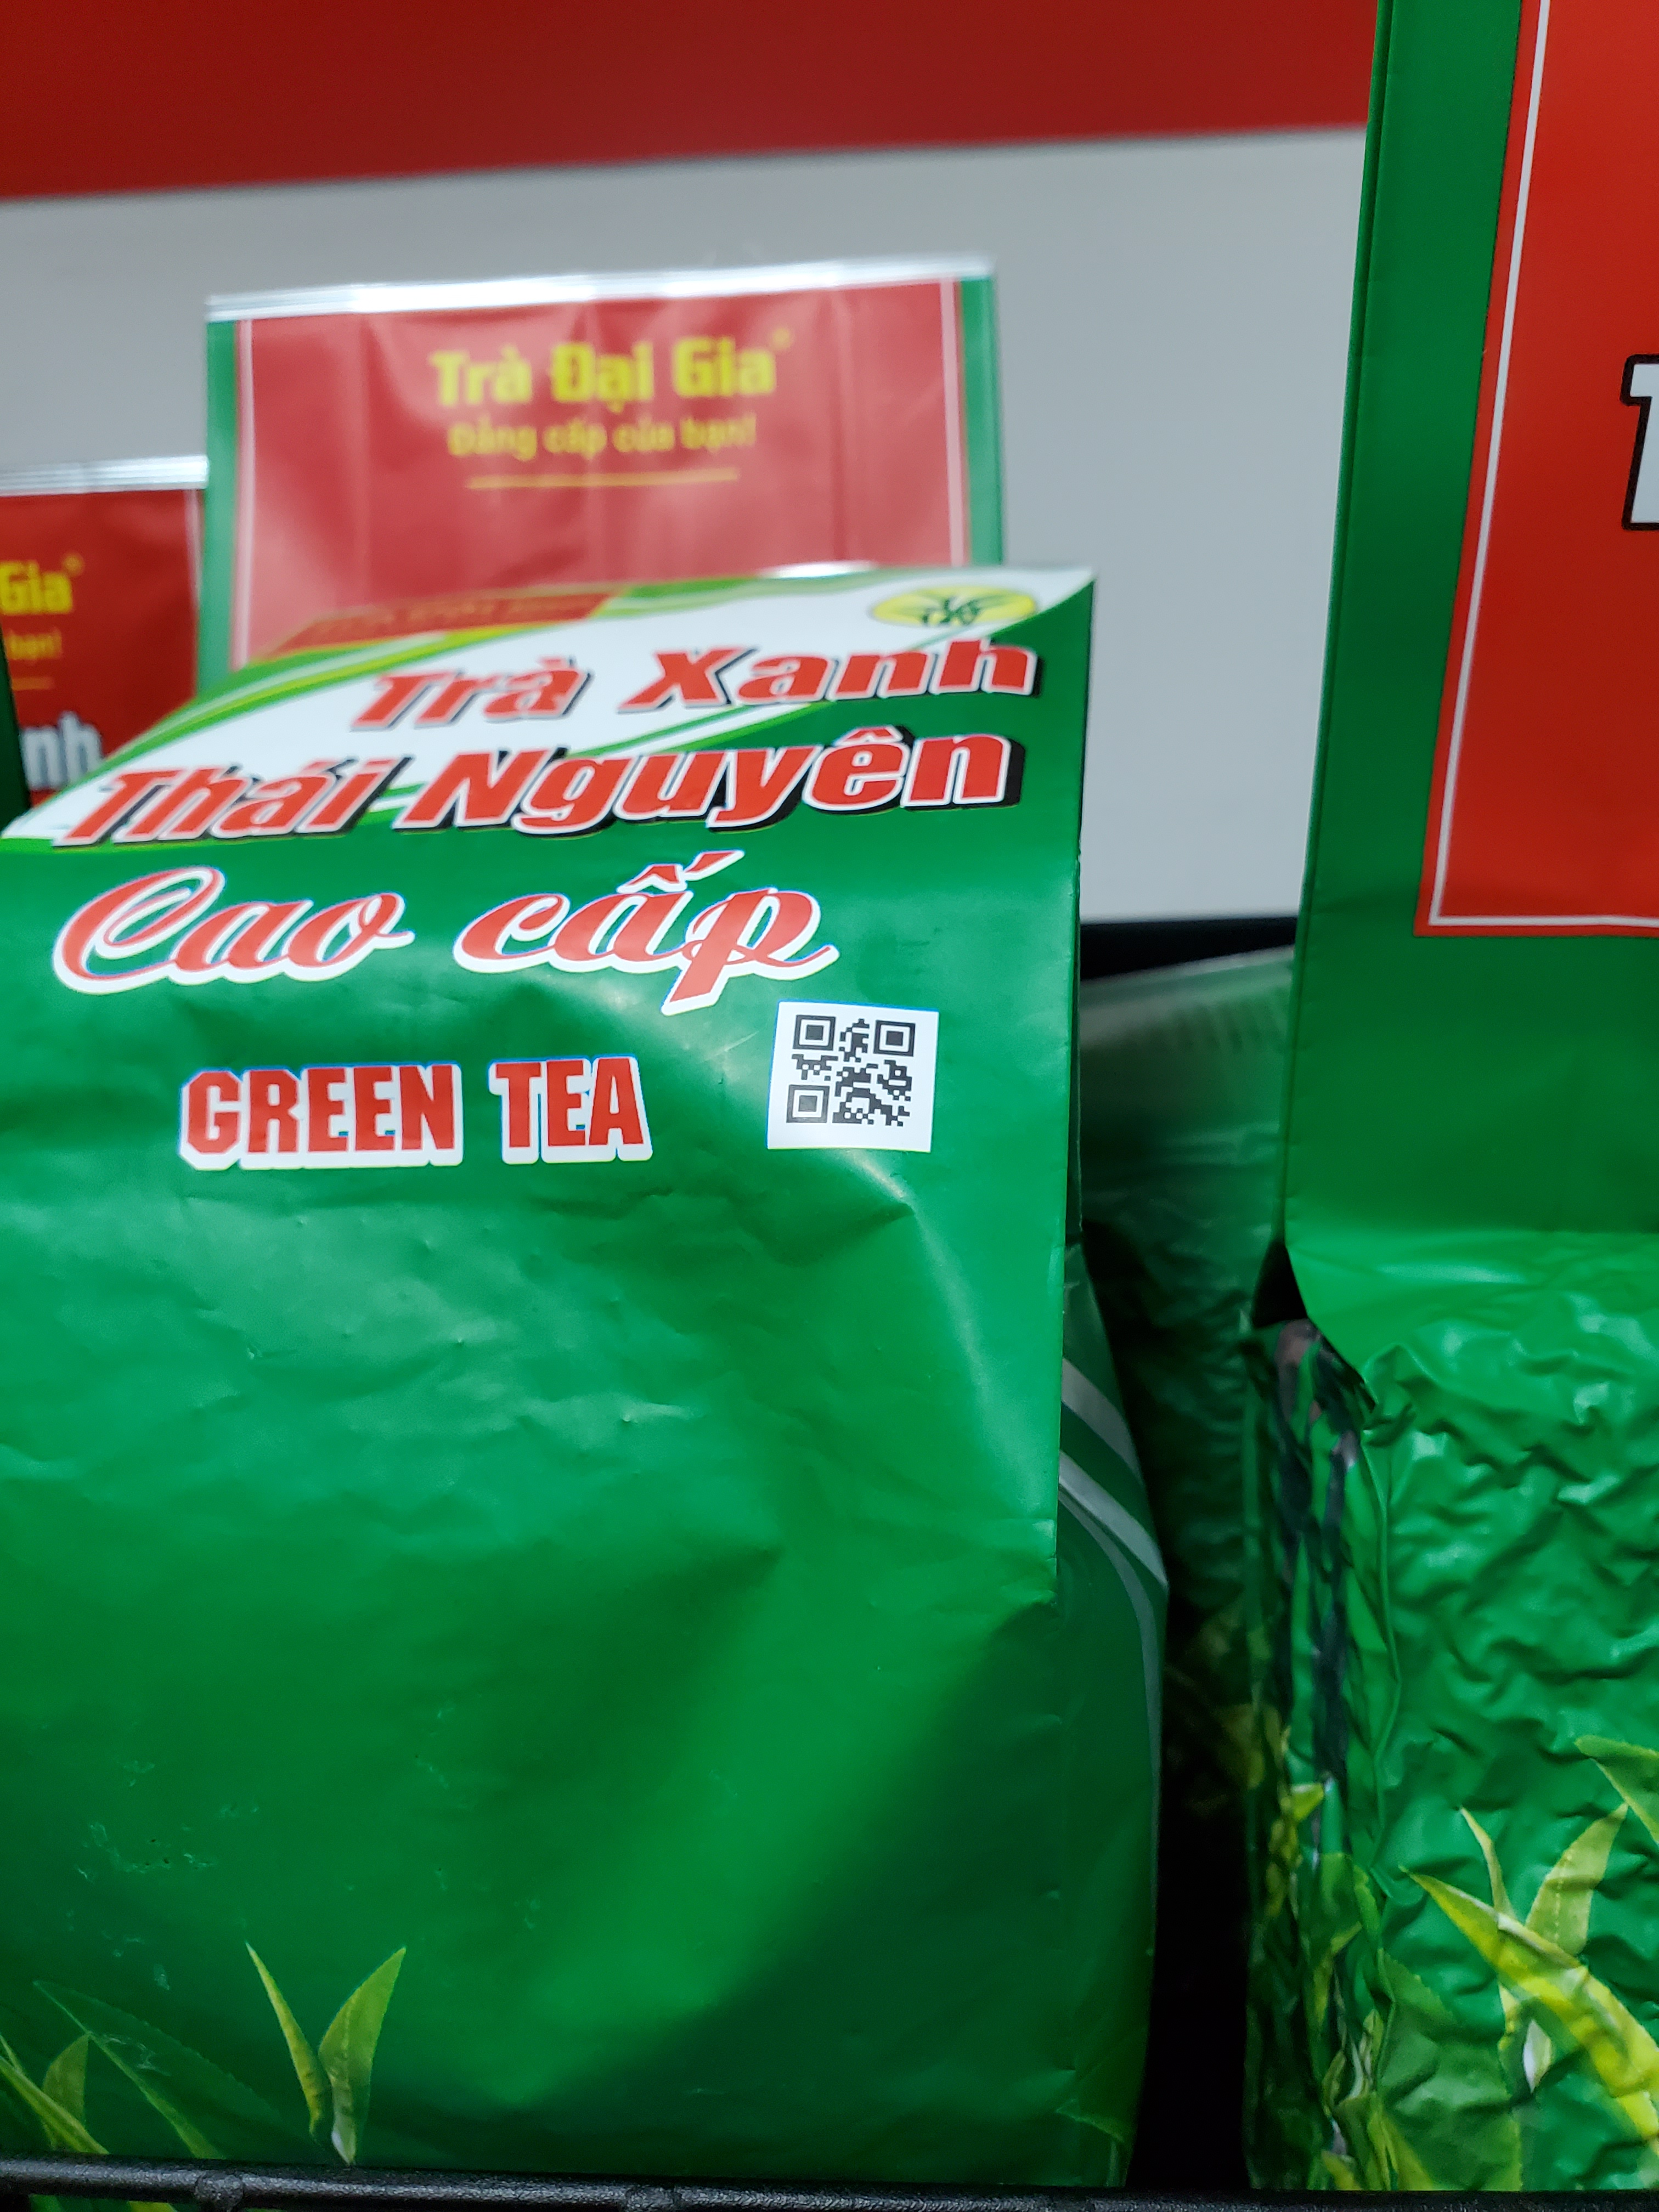qr code: (760, 996, 941, 1144)
